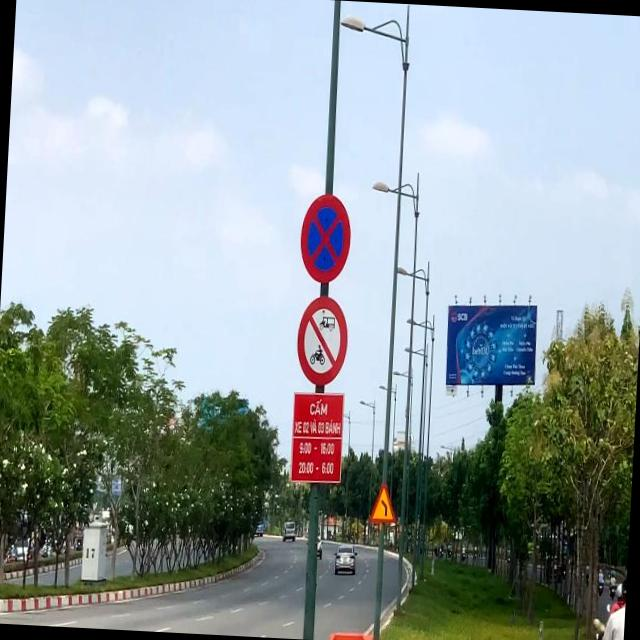P-104: (293, 292, 350, 388)
P-130: (297, 192, 353, 284)
